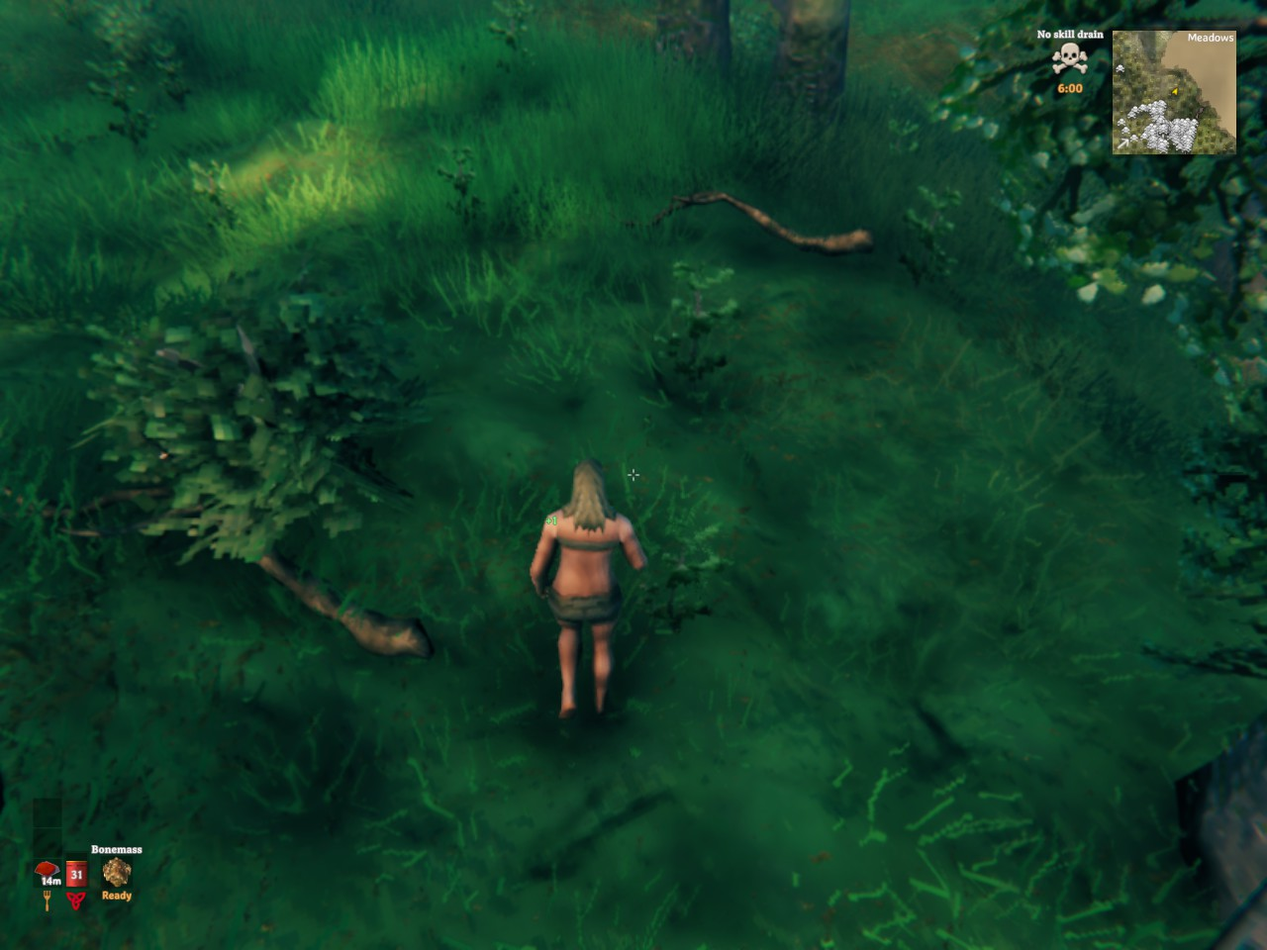Branch: (258, 552, 433, 658), (648, 192, 873, 255)
